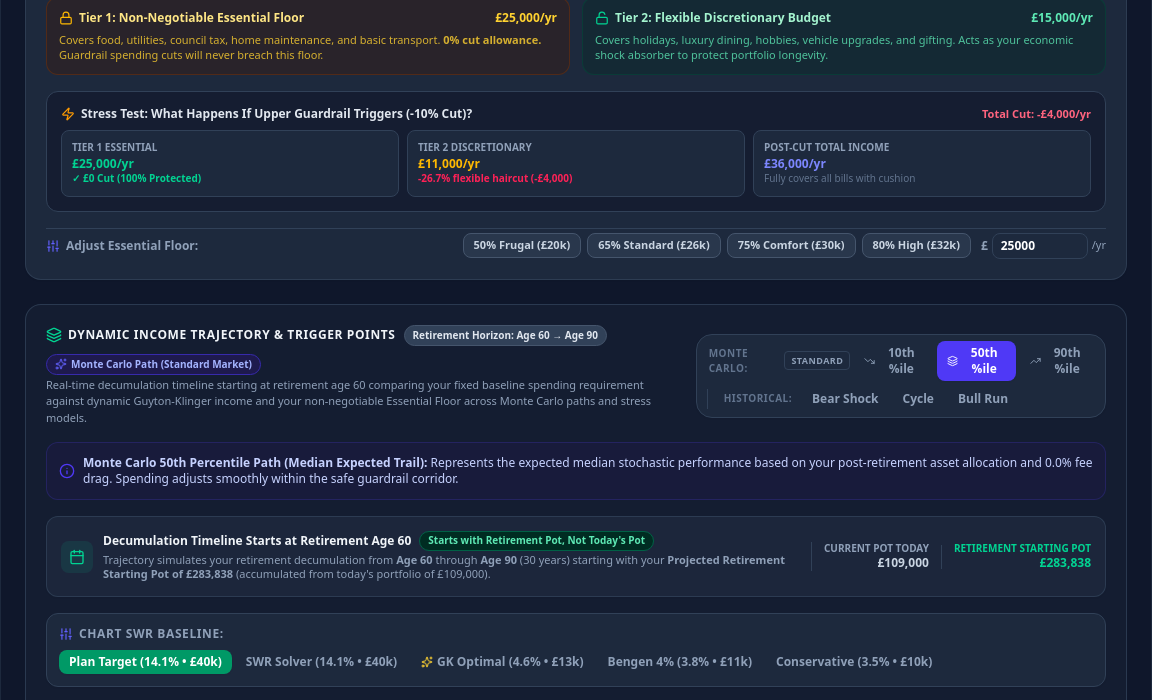
Scenario: DynamicSpendingCard - Guyton-Klinger Spending Rules & Monte Carlo Paths › switches to Monte Carlo 10th, 50th, and 90th percentile paths and updates banner descriptions
(page scrolled)
expect the text "Monte Carlo 50th Percentile Path (Median Expected Trail):" is shown: met, box [83,454,427,471]
Click 10th %ile button
What coordinates should you click on to do the following:
click the button "10th %ile"
I would click on:
 (894, 360)
Its box is [854,340,933,380].
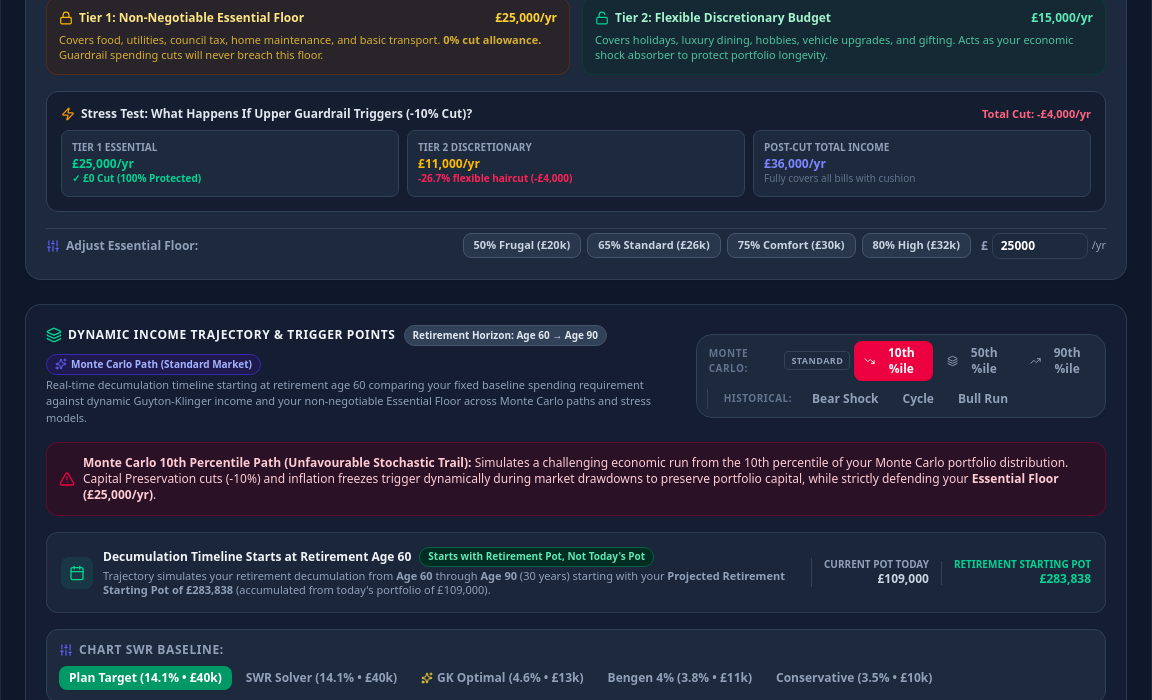
expect the text "Monte Carlo 10th Percentile Path" is shown: met, box [83,454,472,471]
Click 90th %ile button
What coordinates should you click on to do the following:
click the button "90th %ile"
I would click on:
 (1060, 360)
Its box is [1020,340,1099,380].
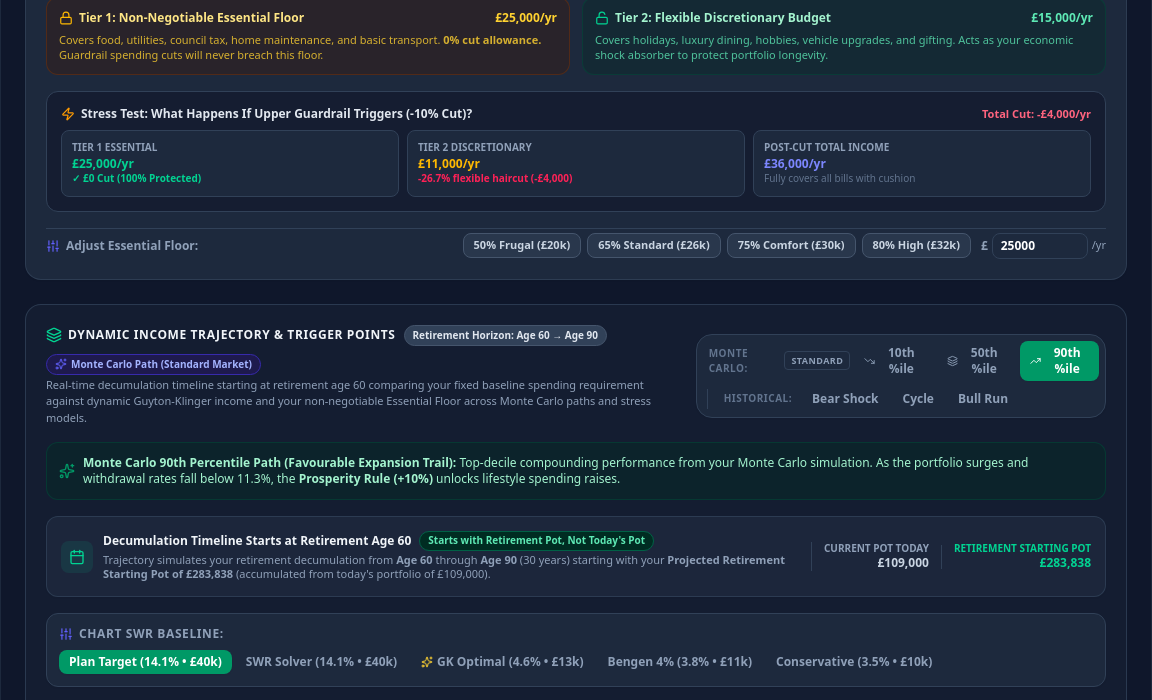
expect the text "Monte Carlo 90th Percentile Path" is shown: met, box [83,454,456,471]
Click Bear Shock button
What coordinates should you click on to do the following:
click the button "Bear Shock"
I would click on:
 (845, 398)
Its box is [802,386,888,410].
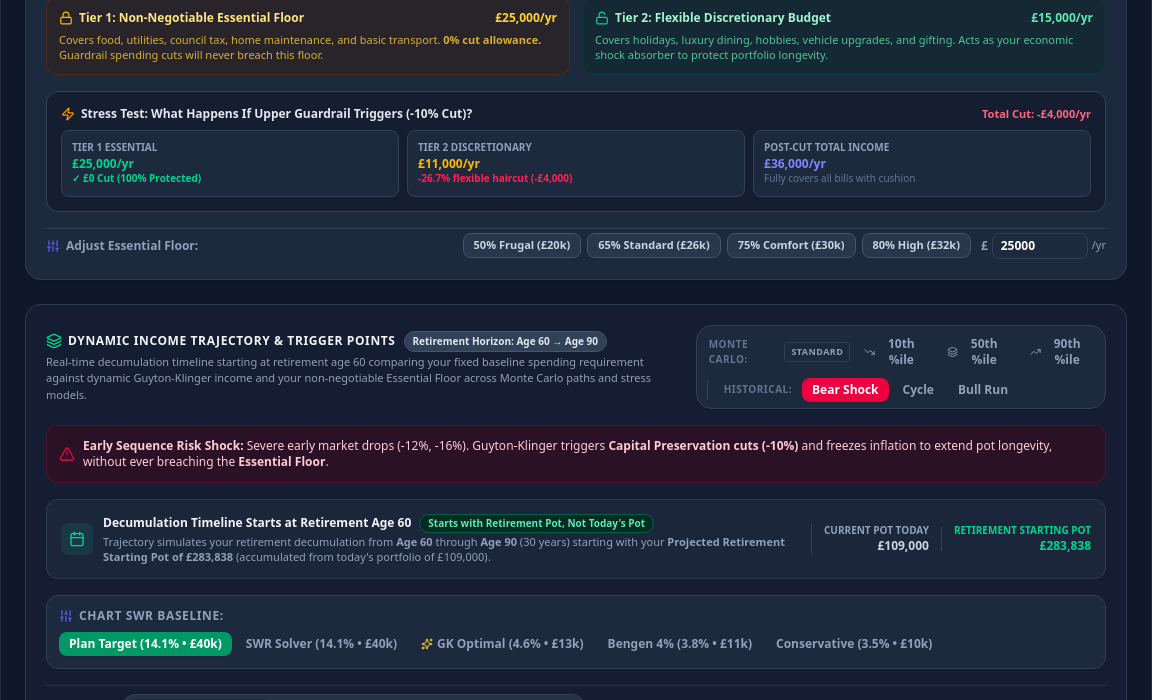
expect the text "Early Sequence Risk Shock:" is shown: met, box [83,437,244,454]
